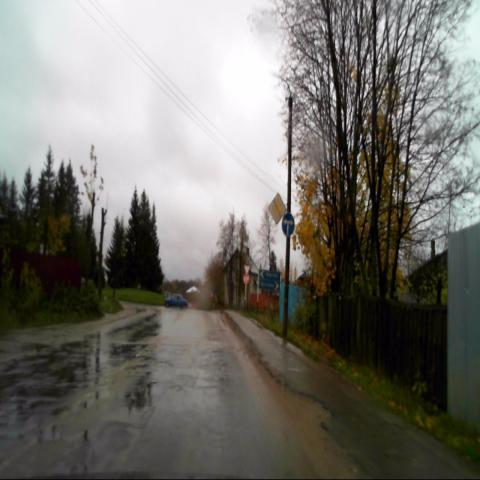4_1_6: (282, 214, 294, 238)
